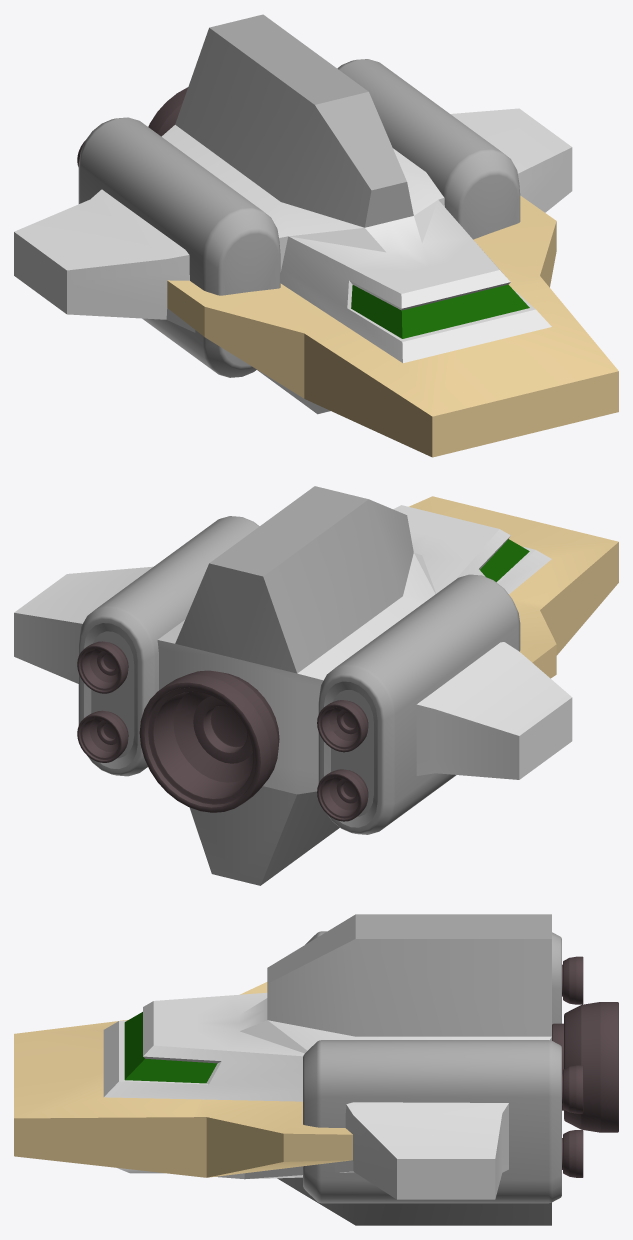
The model's file is Ship.fbx.
3 renders of one model, top to bottom at view 1: azimuth 30°, elevation 25°; view 2: azimuth 150°, elevation 25°; view 3: azimuth 270°, elevation 25°, orthographic. The views are drawn at different scales.
Parts seen in each view (by area): view 1: Ship; view 2: Ship; view 3: Ship.
Boxes of the visible parts, <box> form: Ship: <box>14,14,618,457</box>; Ship: <box>14,486,618,885</box>; Ship: <box>14,914,618,1225</box>.
Bounding box in the file's own units: 828 × 485 × 924.
